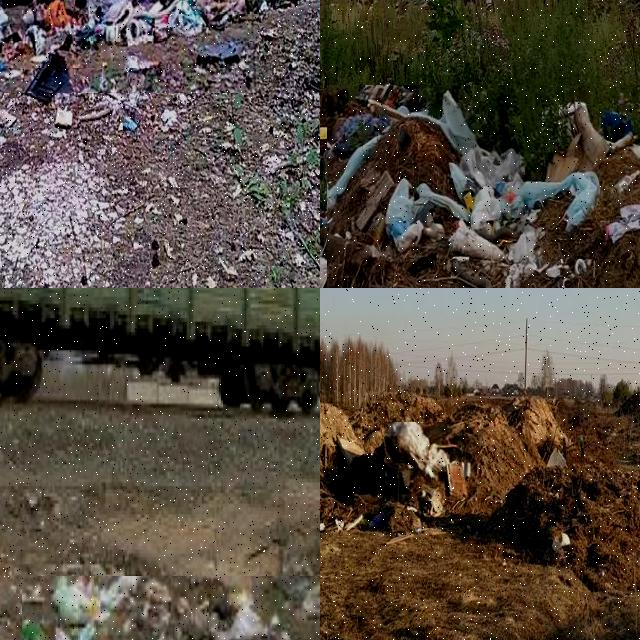lixeira: (327, 85, 639, 287), (0, 0, 261, 95), (384, 422, 478, 502)
